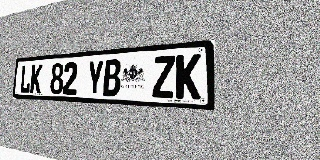2: (63, 62, 78, 95)
8: (50, 63, 64, 94)
B: (103, 59, 121, 96)
K: (175, 54, 201, 99), (30, 64, 43, 94)
L: (20, 65, 32, 93)
Y: (86, 60, 104, 96)
Z: (152, 55, 175, 98)
